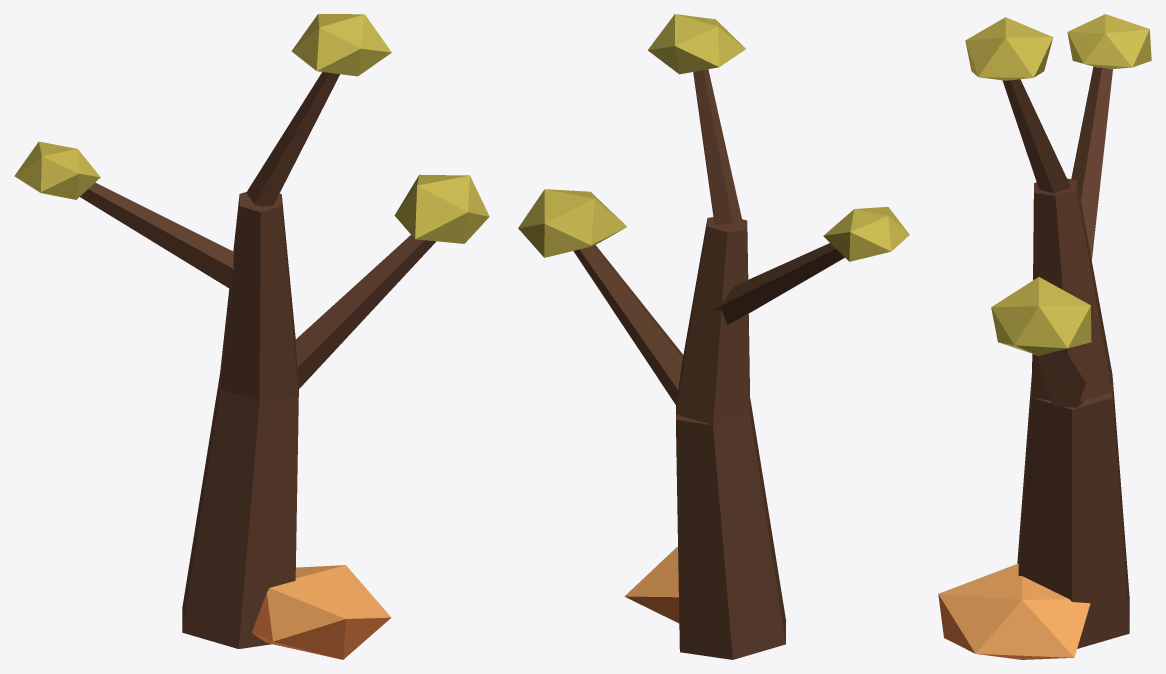
Rendered from CA_Arbol_Seco.obj.
3 renders of one model, left to right at view 1: azimuth 30°, elevation 25°; view 2: azimuth 150°, elevation 25°; view 3: azimuth 270°, elevation 25°, orthographic. The views are drawn at different scales.
Visible parts, largest first — view 1: CA_Arbol_Seco; view 2: CA_Arbol_Seco; view 3: CA_Arbol_Seco.
Boxes of the visible parts, left/top/right/bottom form: CA_Arbol_Seco: left=14, top=14, right=489, bottom=659; CA_Arbol_Seco: left=518, top=14, right=909, bottom=659; CA_Arbol_Seco: left=938, top=14, right=1151, bottom=659.
Bounding box in the file's own units: 3.02 × 4.19 × 1.28.
